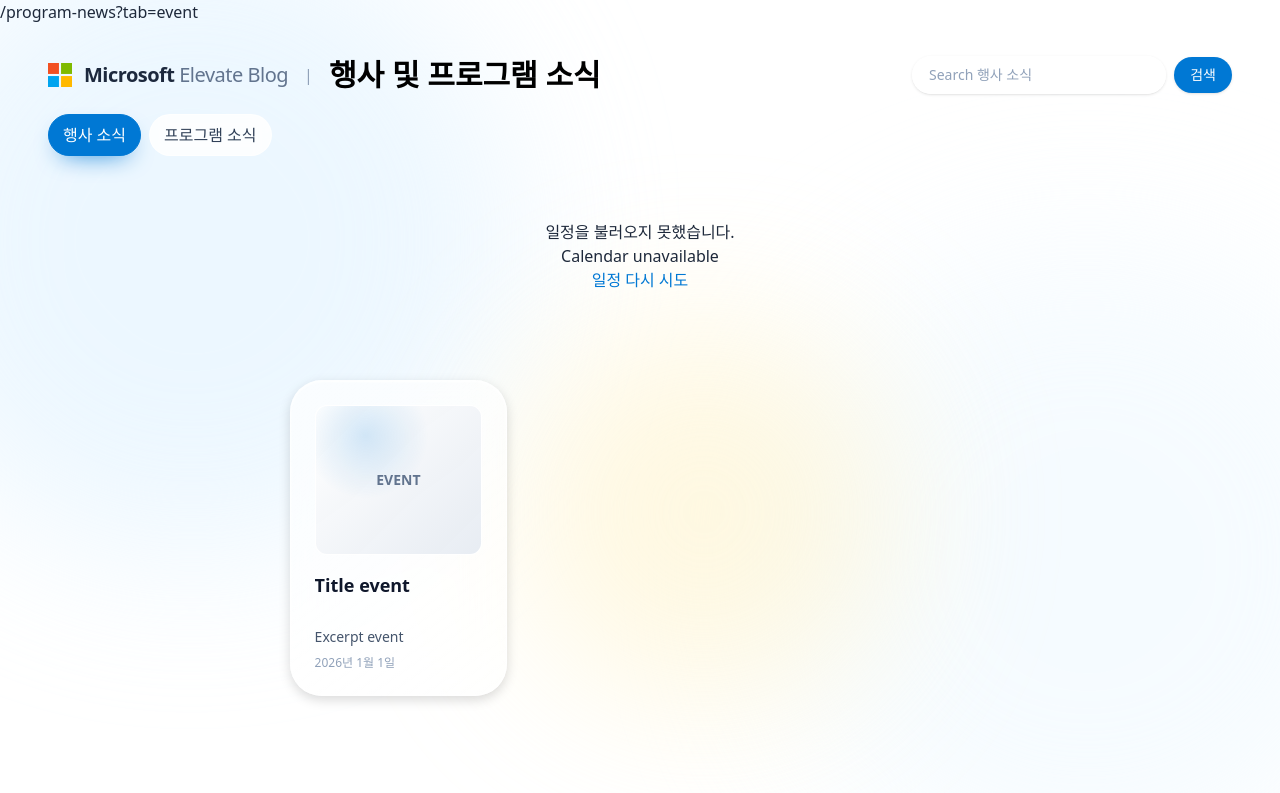
Test: shows calendar failure separately and retries it without hiding or refetching posts
Check: the message "일정을 불러오지 못했습니다. Calendar unavailable 일정 다시 시도" is shown, box left=545, top=221, right=735, bottom=292
What coordinates should you click on to do the following:
click the button "일정 다시 시도"
I would click on:
 (640, 280)
Its box is left=592, top=268, right=688, bottom=292.
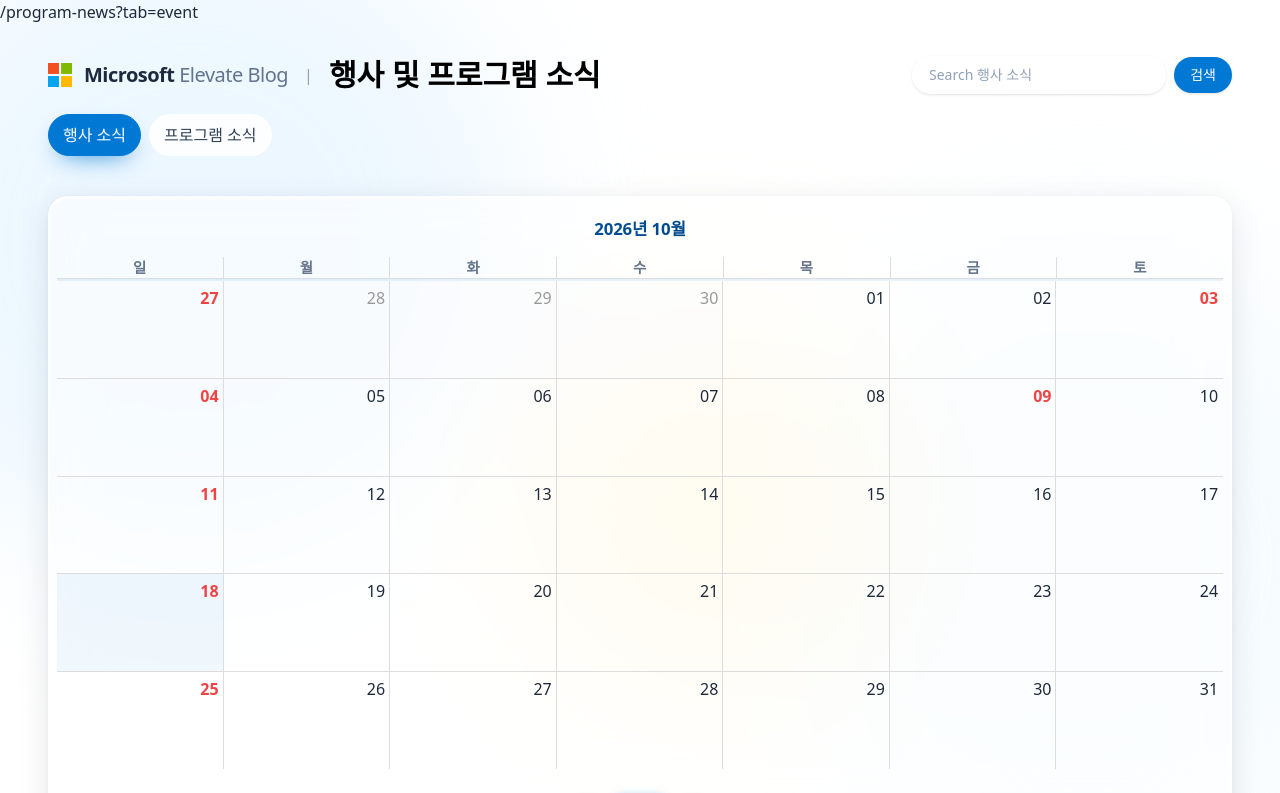
Check: the message "일정을 불러오지 못했습니다. Calendar unavailable 일정 다시 시도" is gone
